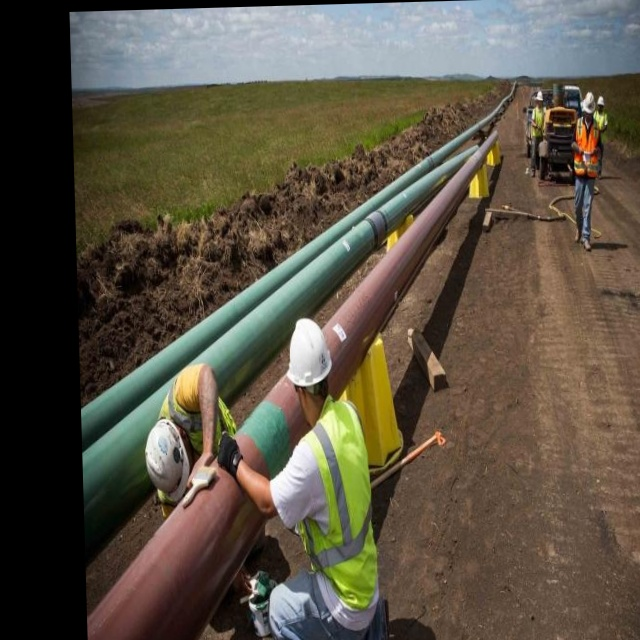Con_Casco: (286, 317, 333, 412), (143, 418, 190, 501), (582, 91, 596, 117)
Con_Chaleco: (300, 409, 379, 615), (574, 118, 603, 178)
